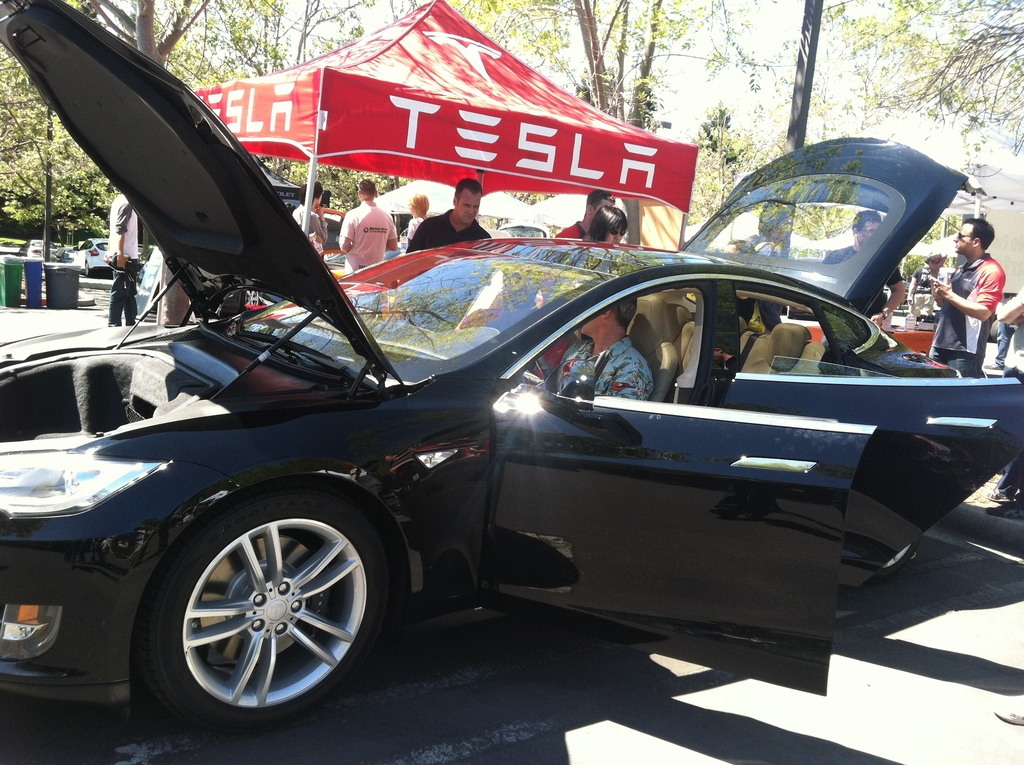Person: (103, 176, 1023, 726), (405, 177, 491, 253)
